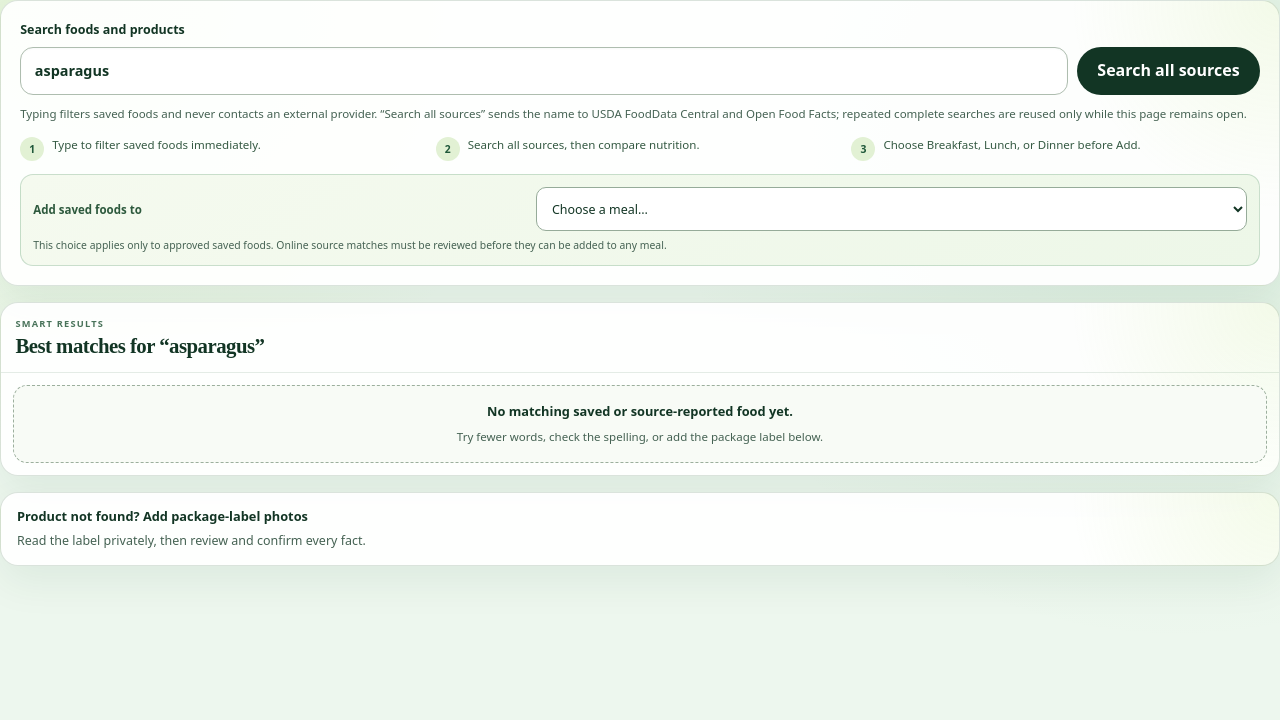
FoodSearchPicker smart discovery › offers a retry after total search failure and restores results
Click the button "Search all sources". click: (1168, 71)
box: [1077,47,1260,95]
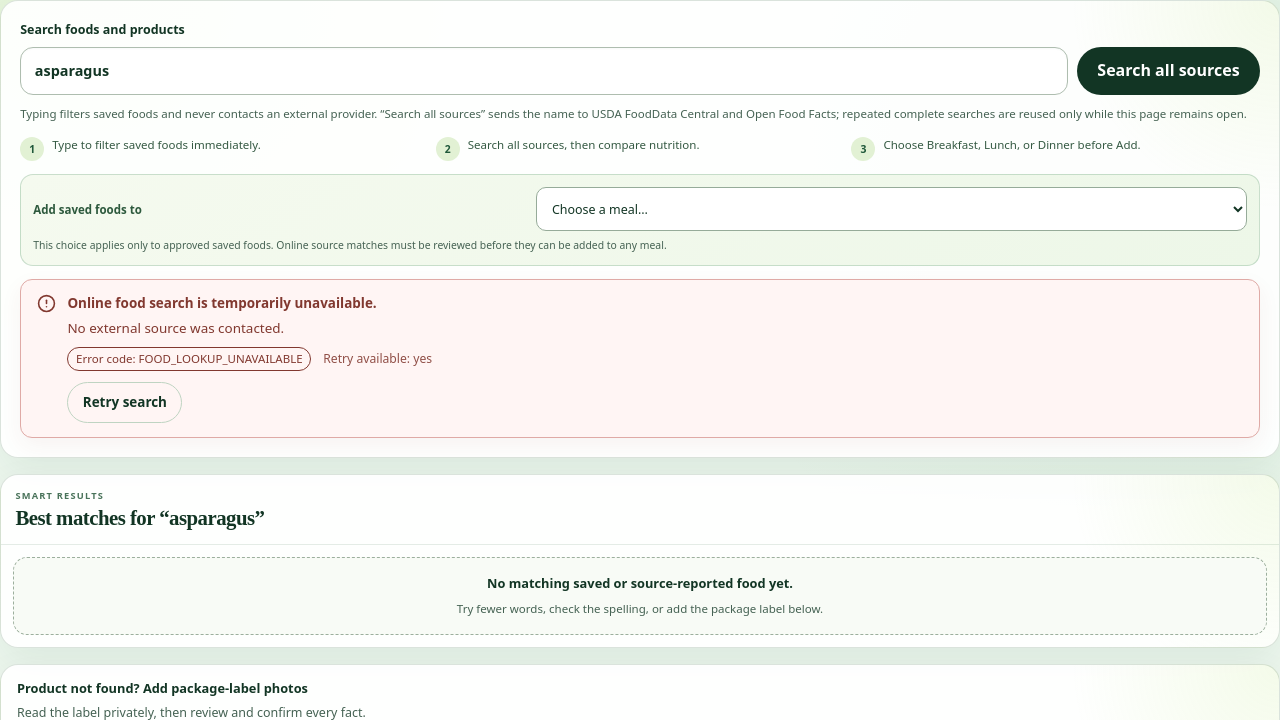
Expected: the message shows "Online food search is temporarily unavailable.", [67,294,377,312]
Expected: the message shows "Error code: FOOD_LOOKUP_UNAVAILABLE", [20,279,1260,438]
Click the button "Retry search". click: (125, 403)
box: [67,382,182,423]
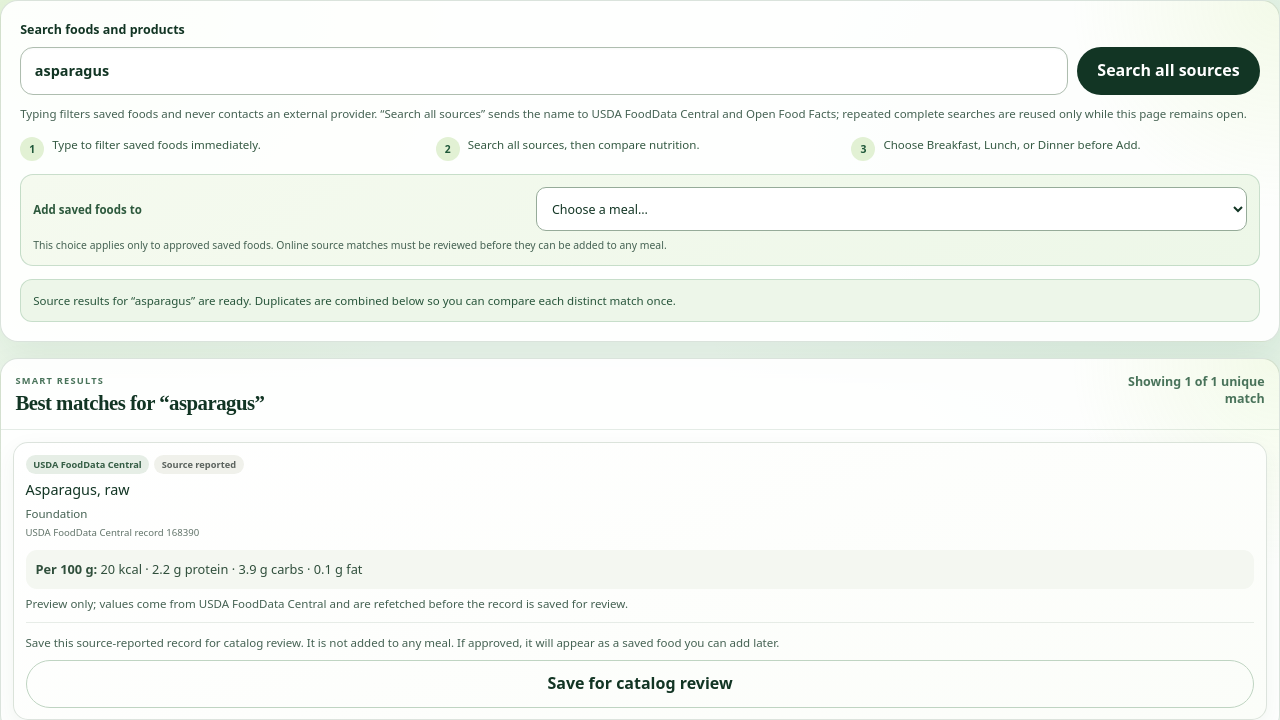
Expected: the heading "Asparagus, raw" is shown, [26,480,130,499]
